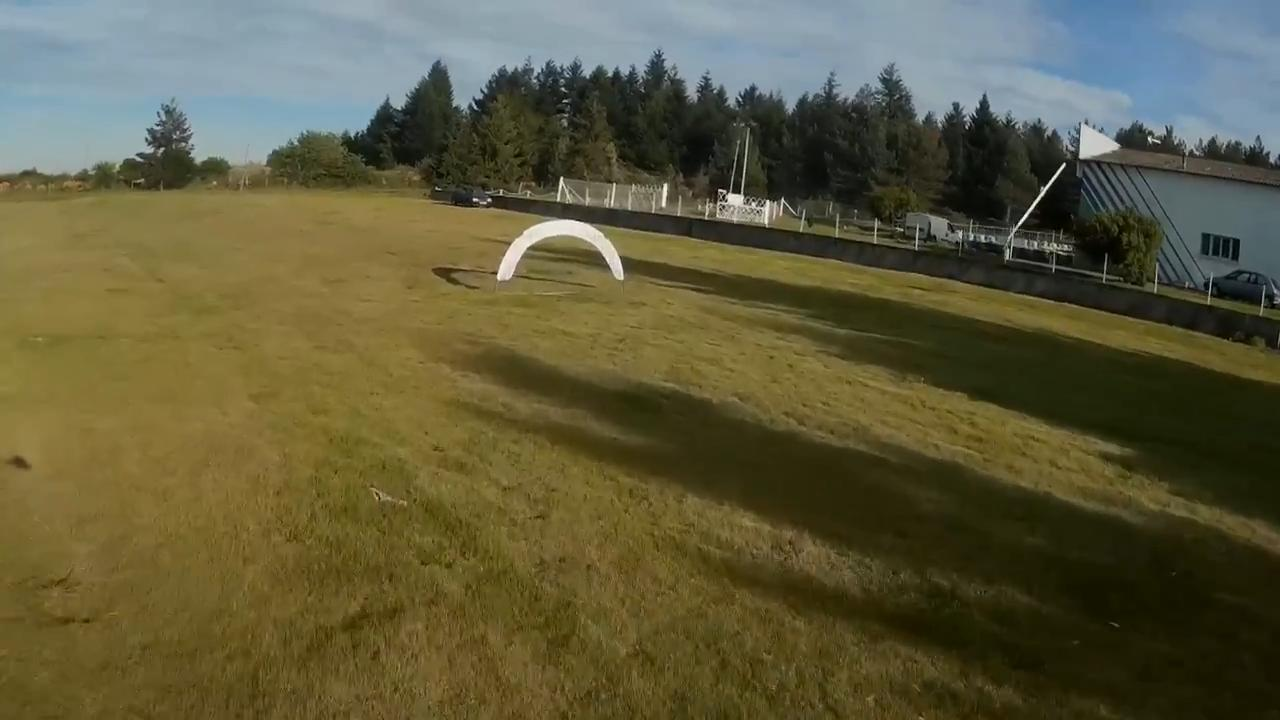gate: (498, 219, 626, 281)
